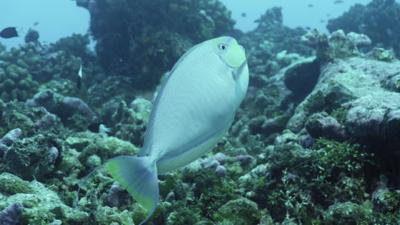Acanthuridae -Surgeonfishes-: (82, 32, 258, 220)
